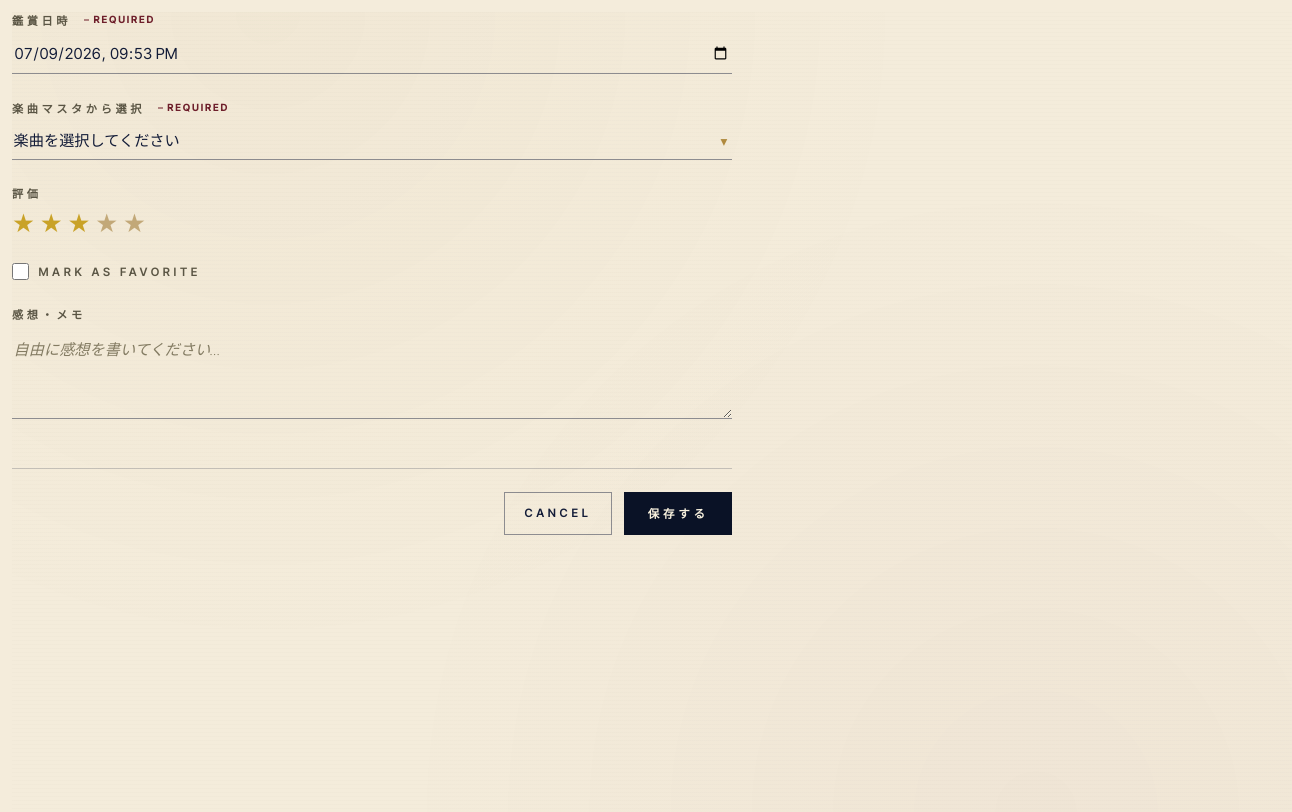
Test case: ListeningLogForm › 楽曲選択 › 楽曲を選択すると作曲家ヒントが表示される
Select "交響曲第9番 / ベートーヴェン" in the dropdown labelled "楽曲マスタから選択 required". click: (372,141)
box: [12,122,732,160]
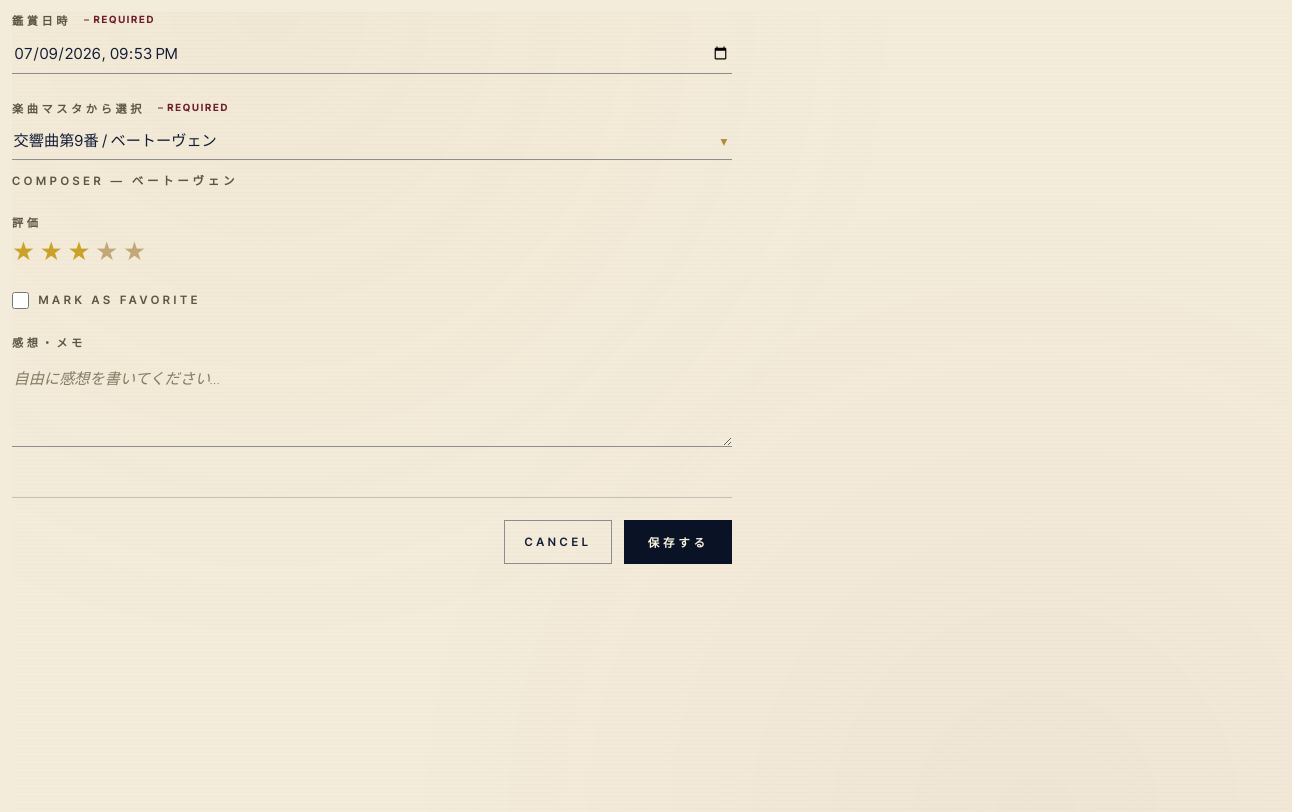
expect the text with class "composer-hint" shows "ベートーヴェン": met, box [12,174,238,188]
